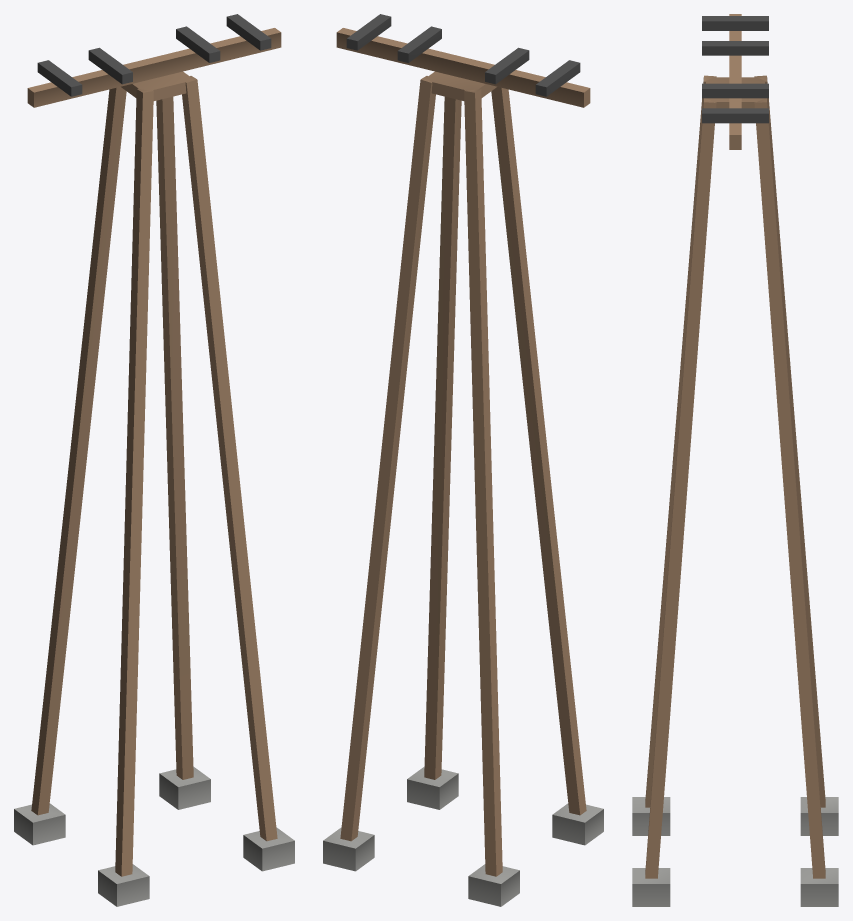
The model's file is ropeway_pylon_lod2.glb.
The picture shows the model from 3 angles, left to right: view 1: azimuth 30°, elevation 25°; view 2: azimuth 150°, elevation 25°; view 3: azimuth 270°, elevation 25°; orthographic projection.
Parts seen in each view (by area): view 1: static; view 2: static; view 3: static.
Boxes of the visible parts, left/top/right/bottom form: static: left=14, top=14, right=294, bottom=906; static: left=323, top=14, right=603, bottom=906; static: left=632, top=14, right=838, bottom=906.
Size of the model in its own units: 6.8 by 20.95 by 4.9.
